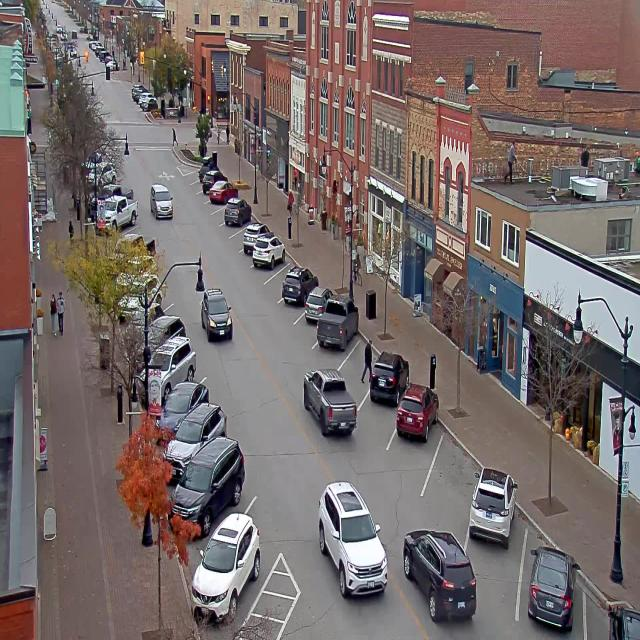available: (421, 431, 482, 528), (336, 333, 374, 396), (258, 262, 285, 303), (226, 224, 245, 252), (210, 202, 223, 227), (183, 168, 196, 184)
occupied: (169, 435, 245, 538), (194, 503, 270, 598), (527, 544, 580, 631), (468, 466, 517, 547), (143, 334, 198, 405), (154, 381, 209, 442), (396, 381, 443, 441), (316, 296, 358, 352), (368, 349, 409, 405), (595, 590, 639, 640), (179, 399, 228, 443), (282, 265, 318, 304), (252, 232, 285, 269), (304, 286, 332, 327), (224, 197, 252, 226), (242, 222, 269, 252), (209, 182, 237, 204), (200, 168, 224, 193), (196, 154, 214, 182)
